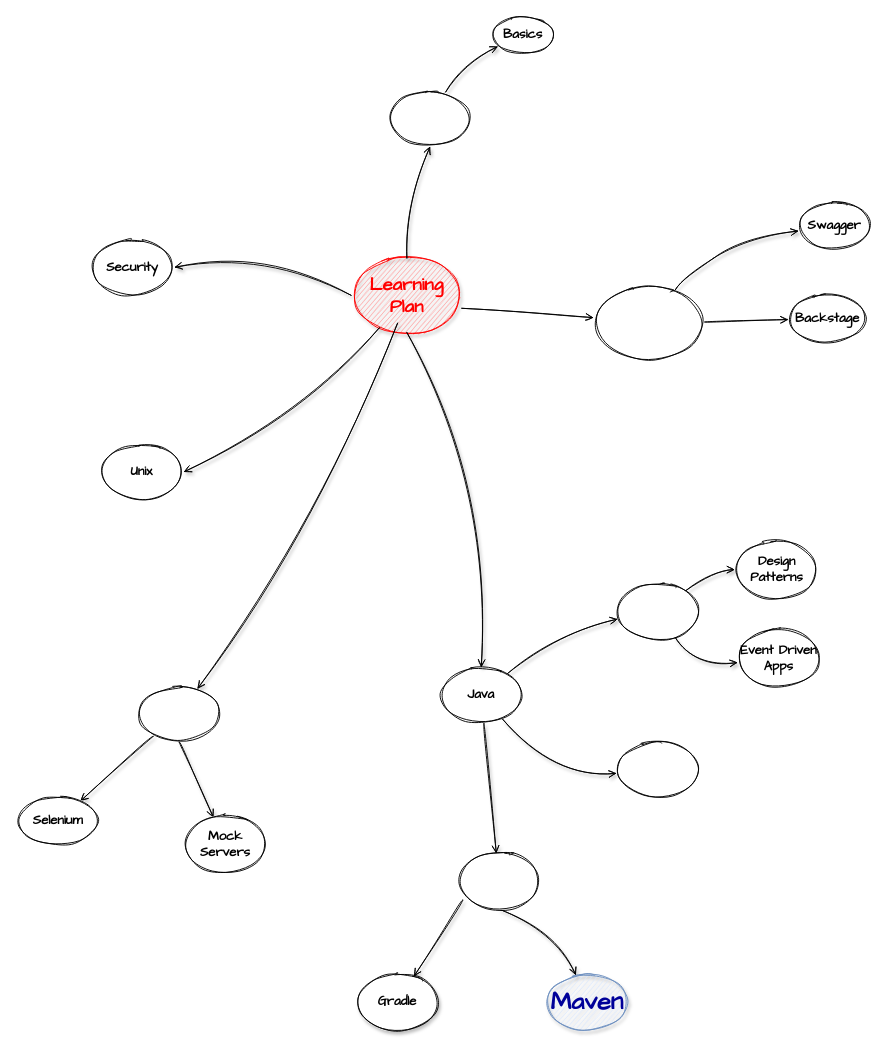
This 888x1053 diagram has some shape labels left out. Here are the shapes that lost their labels. From the top down, the centre of each, then its label:
point (429, 118): Docker
point (648, 322): API Documentation
point (657, 611): Paradigms
point (178, 713): Testing
point (657, 769): Spring Boot
point (498, 880): Build Tools
